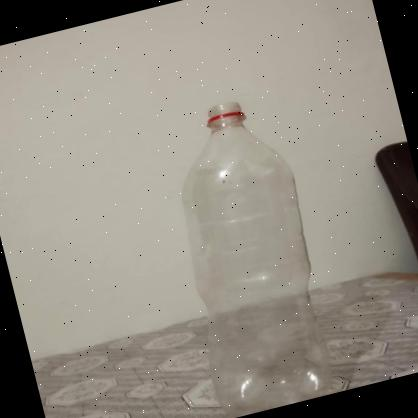bottle: (149, 87, 355, 418)
